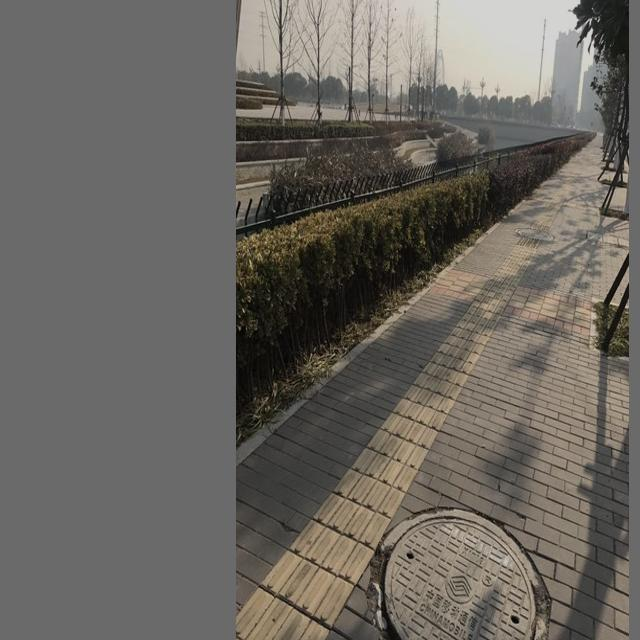circle: (367, 507, 553, 640)
